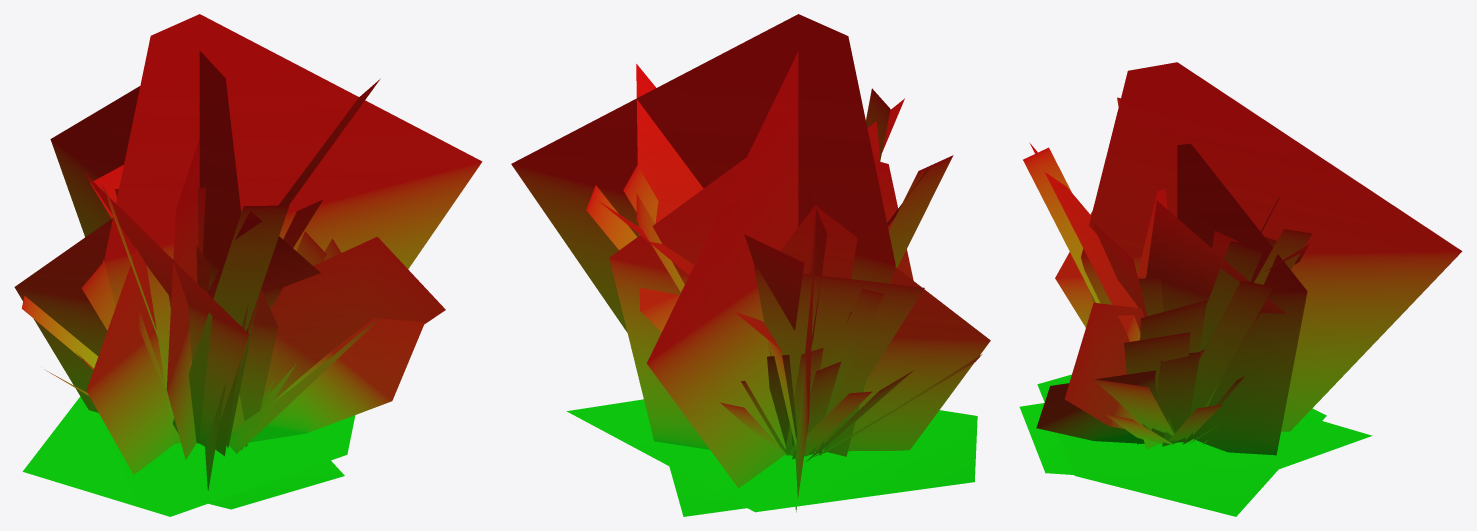
File: Leafy Nineawn_LOD2_Var2_tlijciuia.fbx
3 views of the same model, side by side, from view 1: azimuth 30°, elevation 25°; view 2: azimuth 150°, elevation 25°; view 3: azimuth 270°, elevation 25° (orthographic). The views are drawn at different scales.
Parts seen in each view (by area): view 1: _40fd_Var2_LOD2; view 2: _40fd_Var2_LOD2; view 3: _40fd_Var2_LOD2.
Part boxes in pixels (box(x1,y1,x2,y2)): _40fd_Var2_LOD2: box(14, 14, 482, 516); _40fd_Var2_LOD2: box(511, 14, 990, 516); _40fd_Var2_LOD2: box(1019, 62, 1462, 516).
Size of the model in its own units: 16.72 by 16.41 by 14.67.
